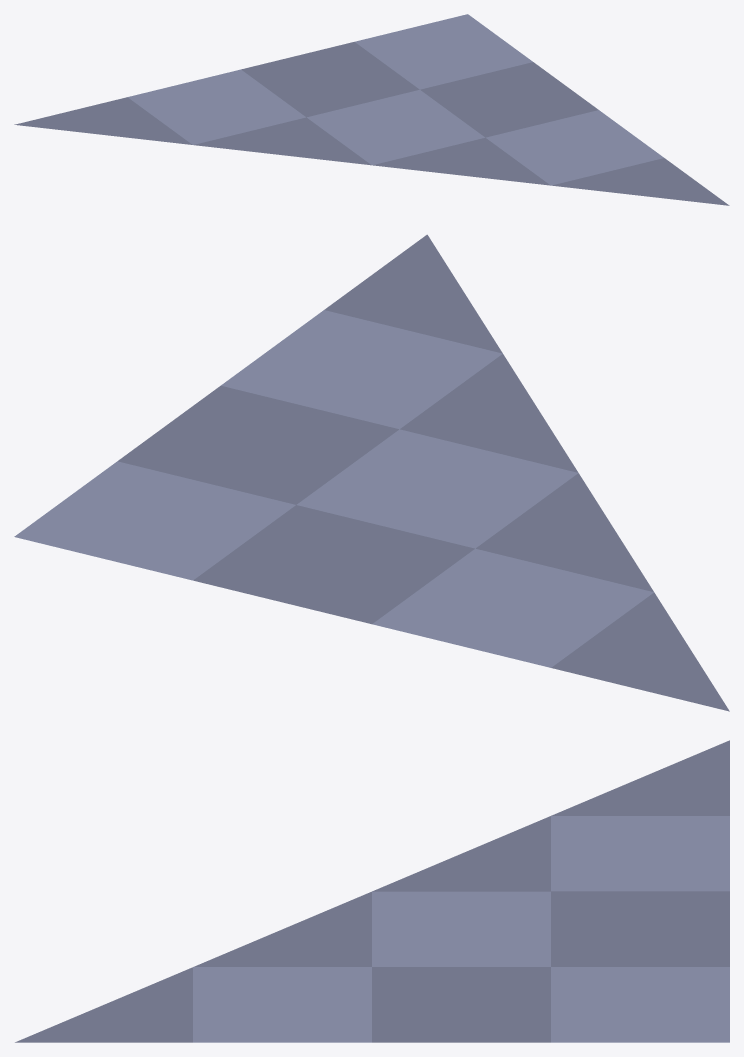
The model's file is floor-small-diagonal.glb.
The picture shows the model from 3 angles, top to bottom: view 1: azimuth 30°, elevation 25°; view 2: azimuth 150°, elevation 25°; view 3: azimuth 270°, elevation 25°; orthographic projection. The views are drawn at different scales.
Parts seen in each view (by area): view 1: floor-small-diagonal; view 2: floor-small-diagonal; view 3: floor-small-diagonal.
Boxes of the visible parts, left/top/right/bottom form: floor-small-diagonal: left=14, top=14, right=729, bottom=205; floor-small-diagonal: left=14, top=234, right=729, bottom=711; floor-small-diagonal: left=15, top=740, right=729, bottom=1042.
Bounding box in the file's own units: 1 × 0 × 1.
1 material, 1 textured.
